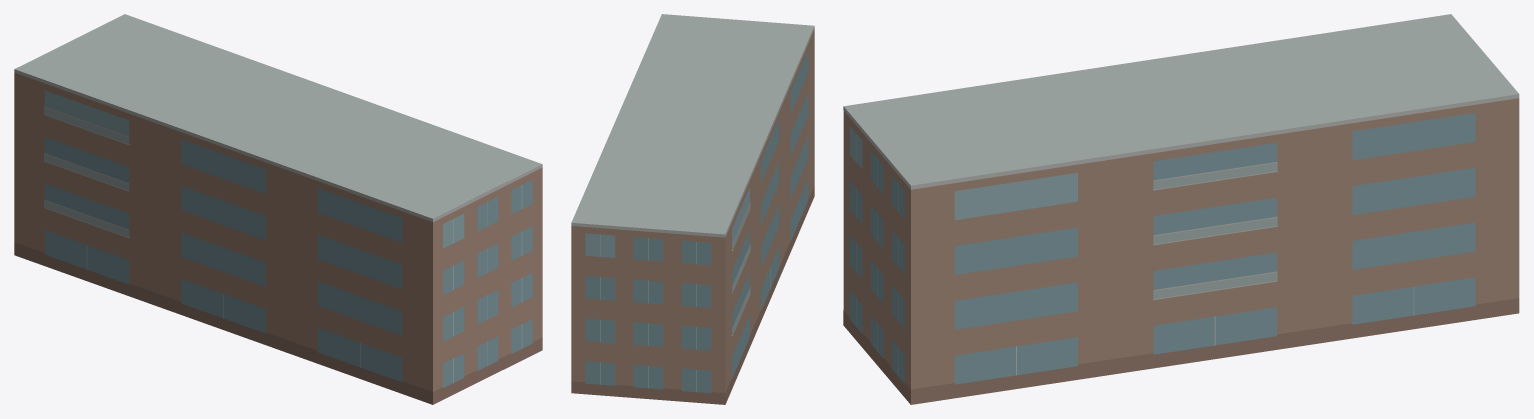
File: survey-upis-32953144.glb
3 renders of one model, left to right at view 1: azimuth 30°, elevation 25°; view 2: azimuth 150°, elevation 25°; view 3: azimuth 270°, elevation 25°, orthographic. The views are drawn at different scales.
Visible parts, largest first — view 1: survey-upis-32953144.tmp; view 2: survey-upis-32953144.tmp; view 3: survey-upis-32953144.tmp.
Boxes of the visible parts, x1=… form: survey-upis-32953144.tmp: x1=14, y1=14, x2=542, y2=404; survey-upis-32953144.tmp: x1=571, y1=14, x2=814, y2=404; survey-upis-32953144.tmp: x1=843, y1=14, x2=1519, y2=404.
Bounding box in the file's own units: 22.18 × 13.2 × 36.89.
